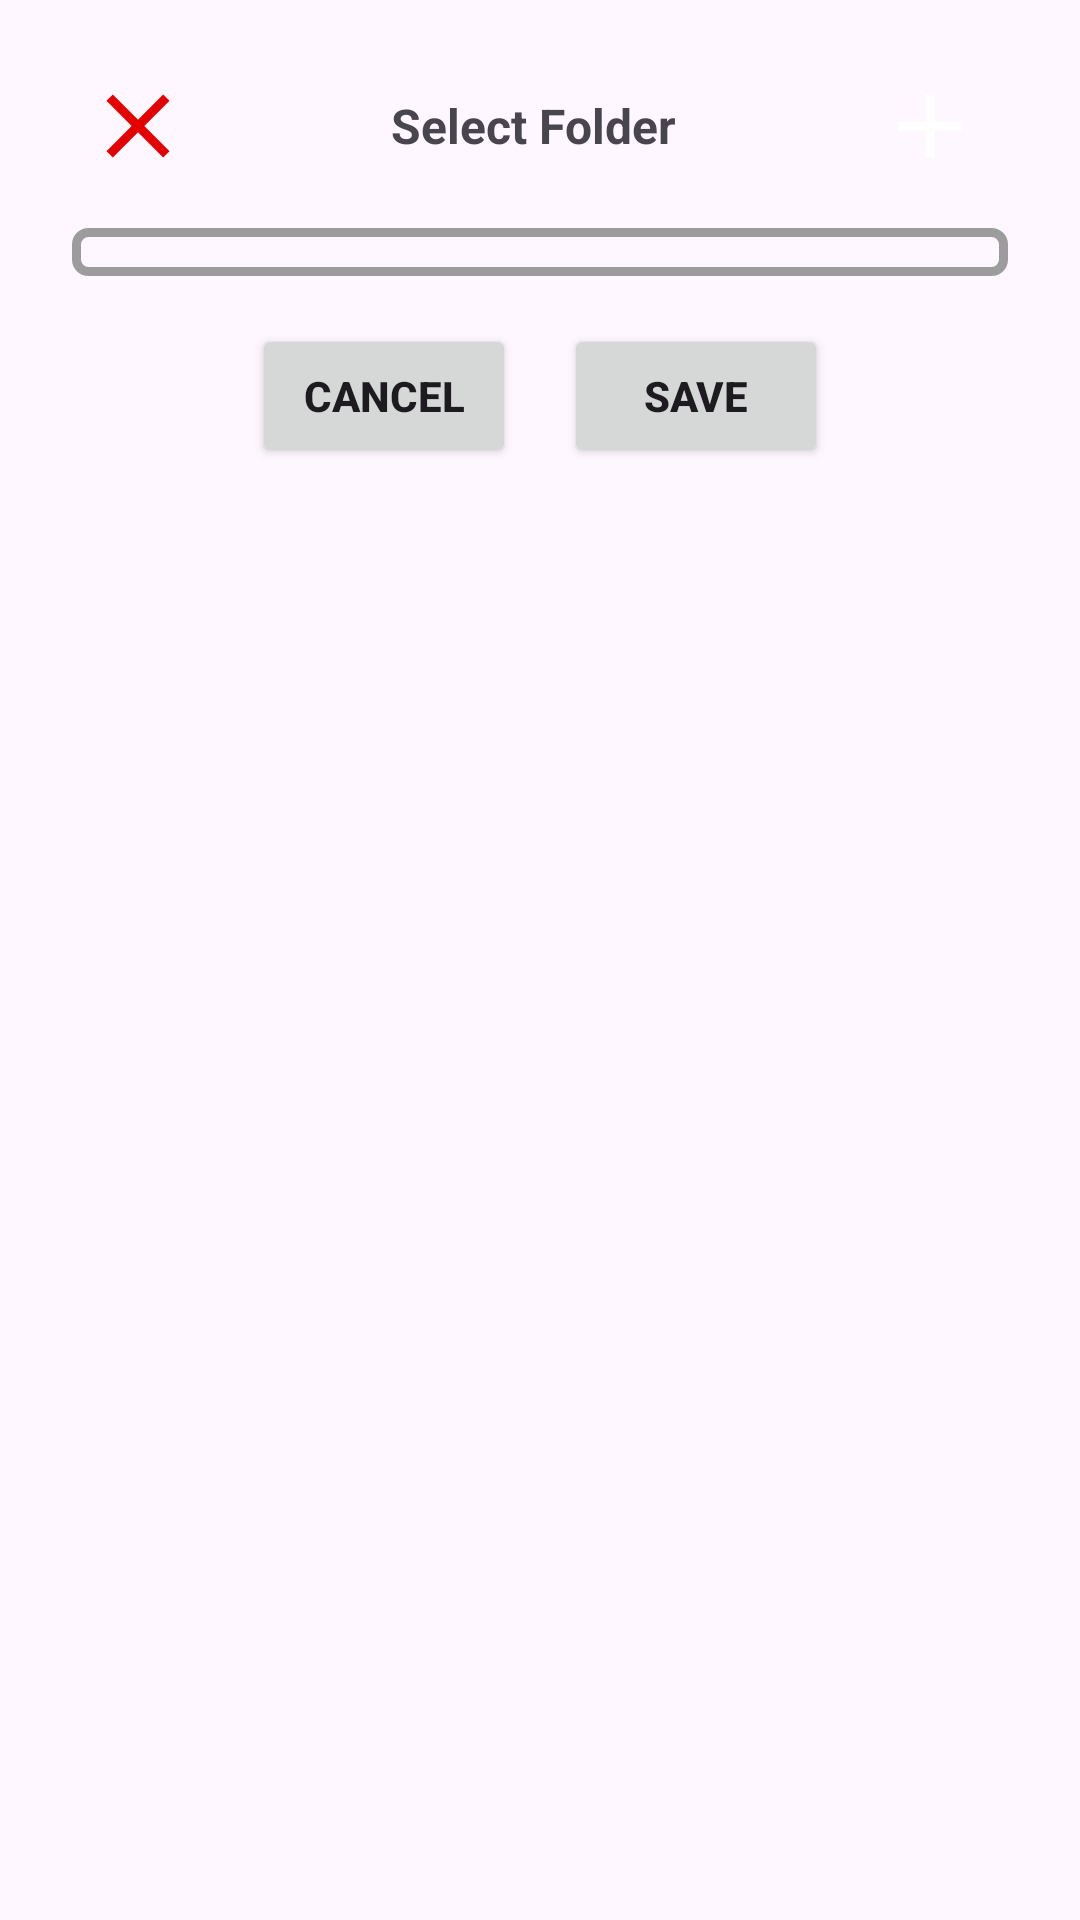

Icons on this 1080 x 1920 Android screen, each with the point to tap as point (x, y):
Close popup: point (138, 126)
